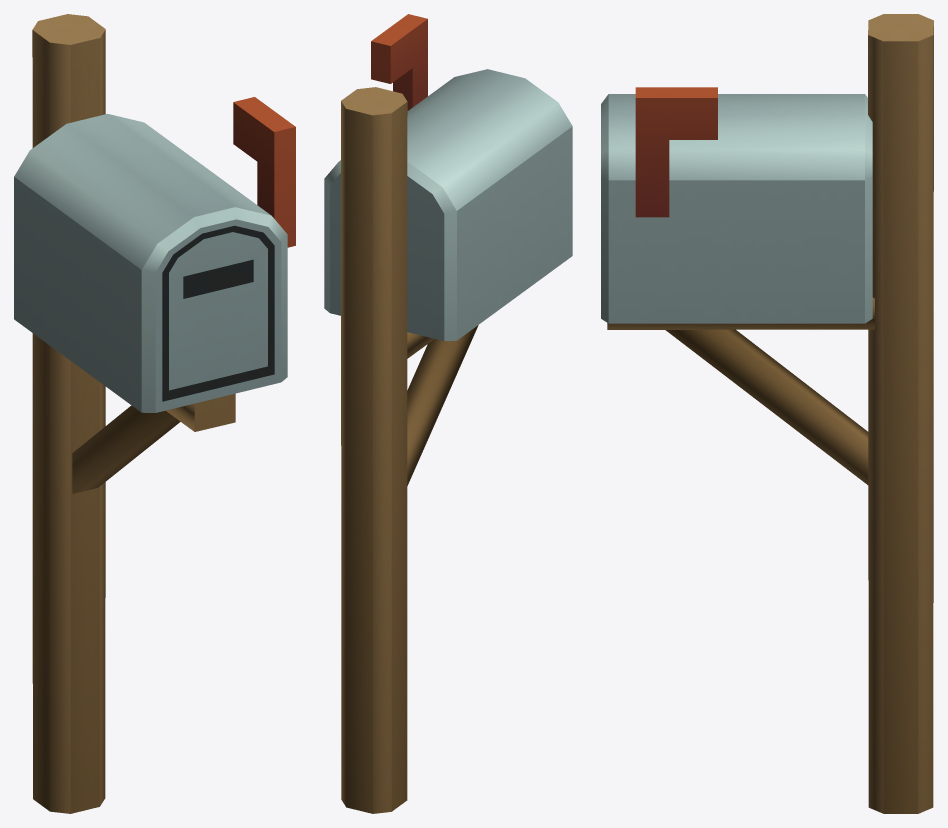
Rendered from mailbox.fbx.
3 views of the same model, side by side, from view 1: azimuth 30°, elevation 25°; view 2: azimuth 150°, elevation 25°; view 3: azimuth 270°, elevation 25° (orthographic). The views are drawn at different scales.
Parts seen in each view (by area): view 1: mailbox; view 2: mailbox; view 3: mailbox.
Boxes of the visible parts, box(x1,y1,x2,y2) form: mailbox: box(14, 14, 295, 813); mailbox: box(324, 14, 572, 813); mailbox: box(601, 14, 933, 813).
Bounding box in the file's own units: 32.14 × 141 × 55.03.
